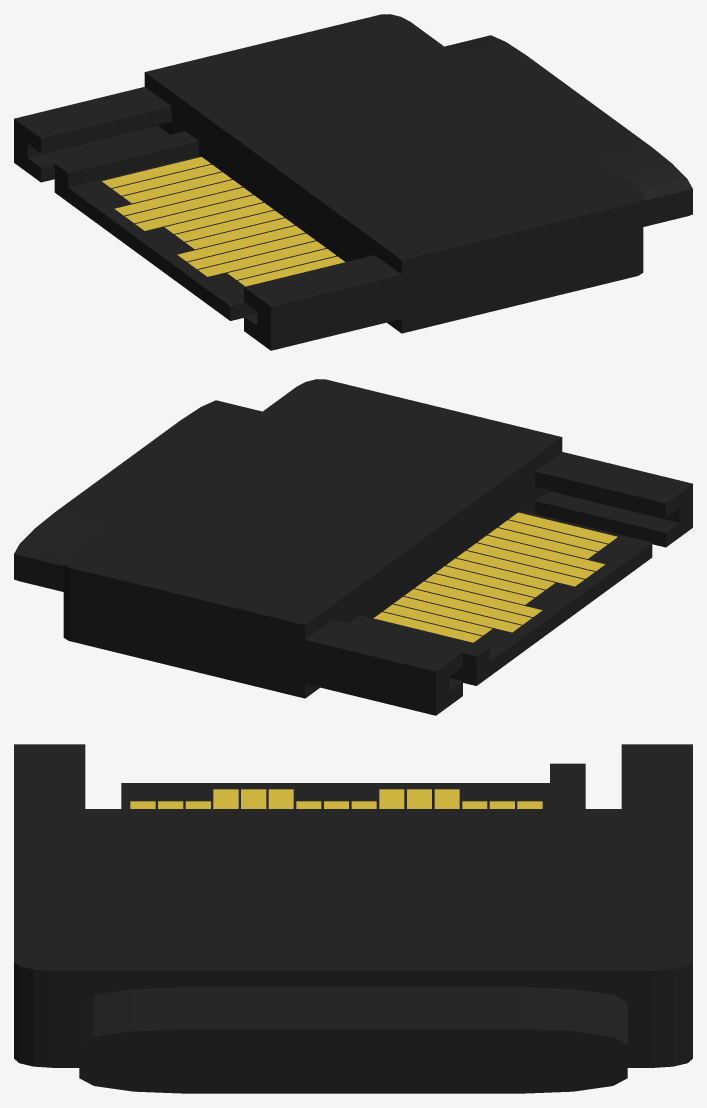
The model's file is SATA_Power.fbx.
3 renders of one model, top to bottom at view 1: azimuth 30°, elevation 25°; view 2: azimuth 150°, elevation 25°; view 3: azimuth 270°, elevation 25°, orthographic. The views are drawn at different scales.
Visible parts, largest first — view 1: Cube.005; view 2: Cube.005; view 3: Cube.005.
Part boxes in pixels (box(x1,y1,x2,y2)): Cube.005: box(14, 14, 692, 350); Cube.005: box(14, 379, 692, 715); Cube.005: box(14, 744, 692, 1093).
Bounding box in the file's own units: 130 × 20.46 × 130.
